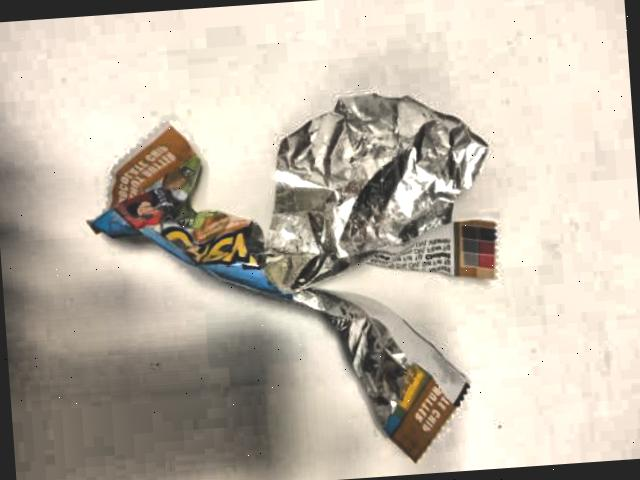Plastic: (71, 72, 550, 480)
